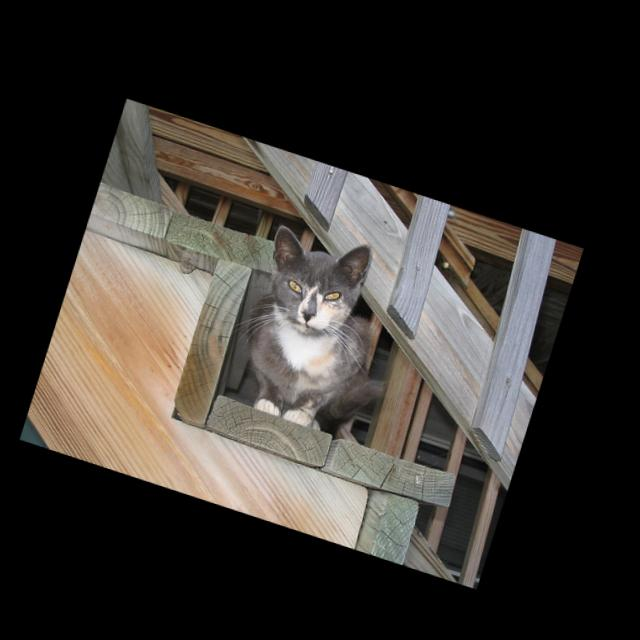animals: (260, 211, 374, 327)
